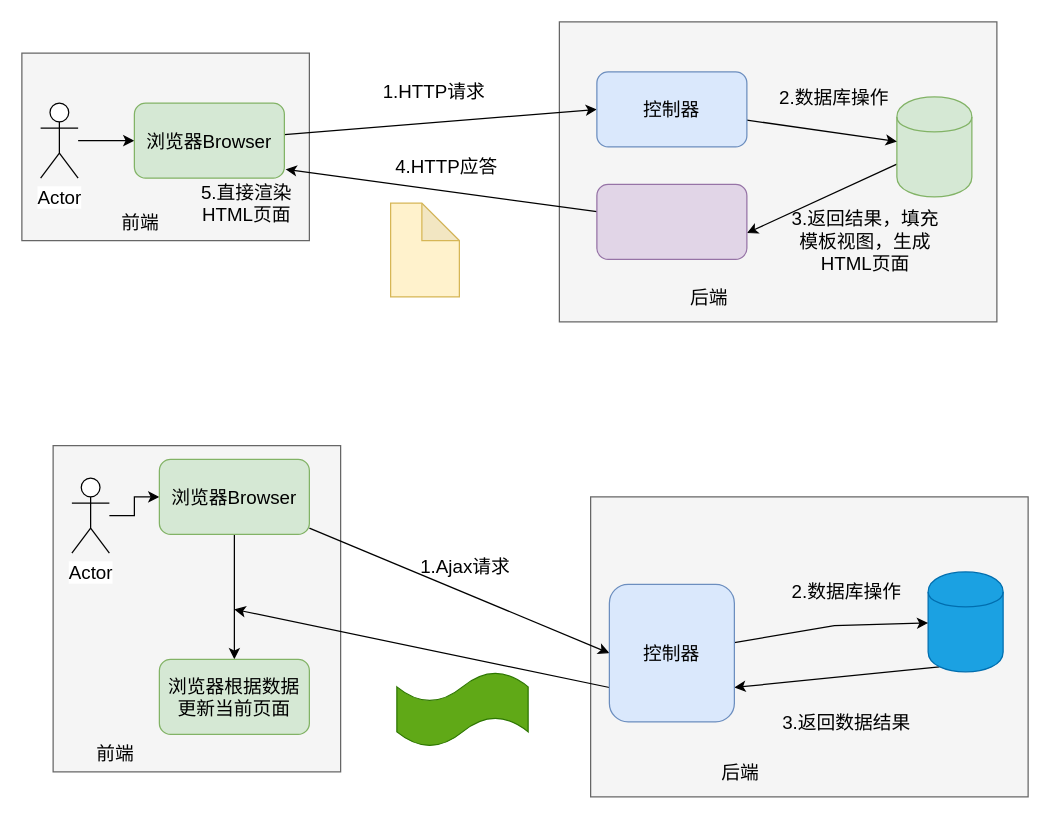
Some shapes in this 1050 by 819 pixel diagram are drawn without their labels. The shapes that lost their labels are listed below. From the top down, each one's centre as x and y in pixels, then its label:
the point at 934,146: 数据库
the point at 671,221: 页面视图模板
the point at 424,249: HTML页面
the point at 462,709: JSON数据格式
